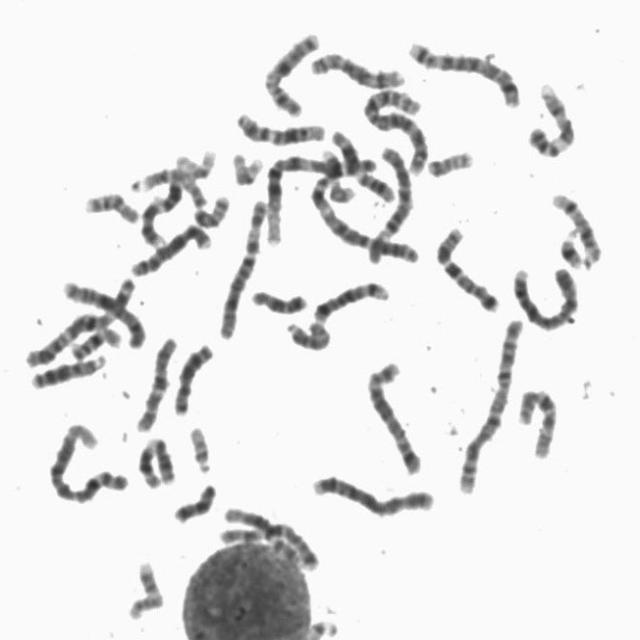A1: (260, 148, 379, 246), (43, 416, 134, 506)
A2: (453, 308, 528, 496), (357, 82, 433, 176)
A3: (305, 158, 424, 265), (21, 271, 140, 369)
B4: (307, 467, 439, 518), (508, 256, 585, 332)
B5: (404, 32, 526, 109), (362, 353, 427, 476)
C10: (130, 328, 182, 434), (512, 380, 564, 460)
C11: (327, 122, 399, 205), (134, 430, 180, 489)
C12: (232, 104, 330, 147), (221, 527, 307, 571)
C6: (214, 192, 271, 342), (362, 140, 416, 265)
C7: (217, 502, 323, 572), (431, 218, 504, 315)
C8: (126, 217, 215, 279), (306, 44, 409, 90)
C9: (523, 74, 580, 159), (140, 174, 186, 254)
D13: (170, 336, 219, 416), (26, 347, 111, 391)
D14: (548, 186, 606, 270), (309, 273, 394, 324)
D15: (133, 161, 206, 213), (282, 313, 334, 352)
E16: (66, 320, 126, 363), (80, 191, 144, 230)
E17: (123, 554, 168, 622), (318, 150, 355, 206)
E18: (169, 474, 220, 524), (246, 281, 312, 316)
F19: (170, 142, 220, 179), (228, 145, 267, 187)
F20: (423, 141, 479, 179), (188, 188, 232, 230)
G21: (556, 223, 587, 270)
G22: (184, 418, 216, 474), (298, 617, 346, 640)
X: (58, 273, 149, 351), (258, 24, 324, 118)
